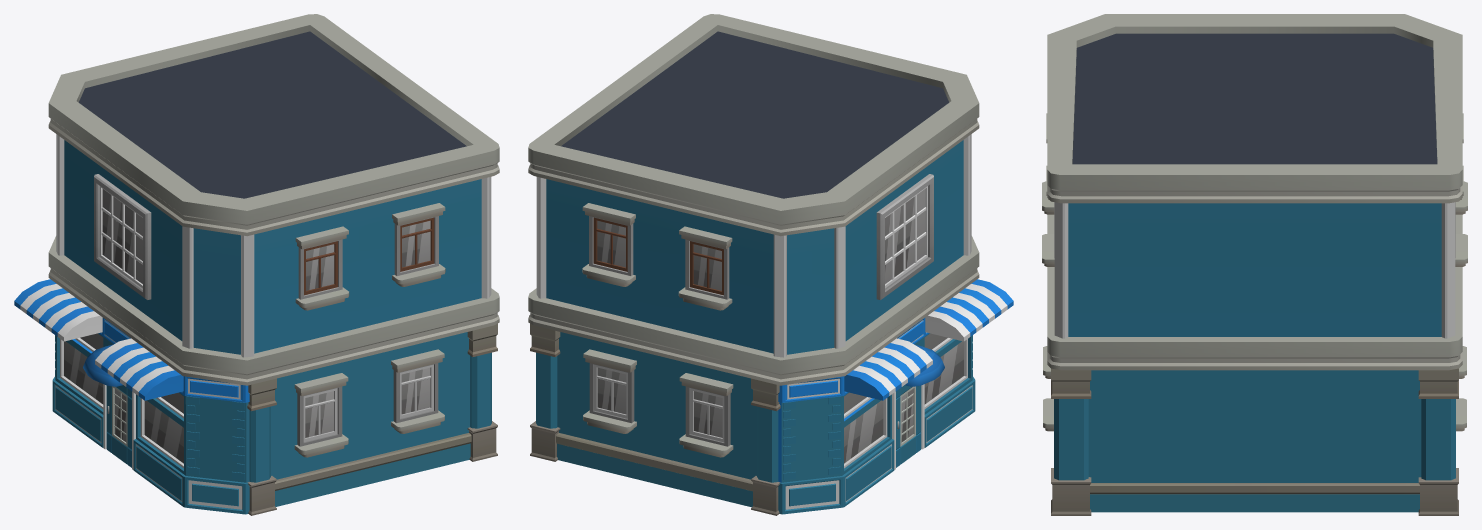
Rendered from Building_3_2_H.fbx.
The picture shows the model from 3 angles, left to right: view 1: azimuth 30°, elevation 25°; view 2: azimuth 150°, elevation 25°; view 3: azimuth 270°, elevation 25°; orthographic projection. The views are drawn at different scales.
Parts seen in each view (by area): view 1: Building 3_2_H; view 2: Building 3_2_H; view 3: Building 3_2_H.
Part boxes in pixels (bbox=[...]): Building 3_2_H: bbox=[14, 14, 499, 515]; Building 3_2_H: bbox=[528, 14, 1013, 515]; Building 3_2_H: bbox=[1042, 14, 1467, 515].
Bounding box in the file's own units: 820 × 726 × 816.
